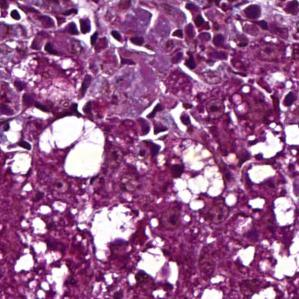ballooning: (38, 115, 107, 181), (169, 136, 225, 214)
